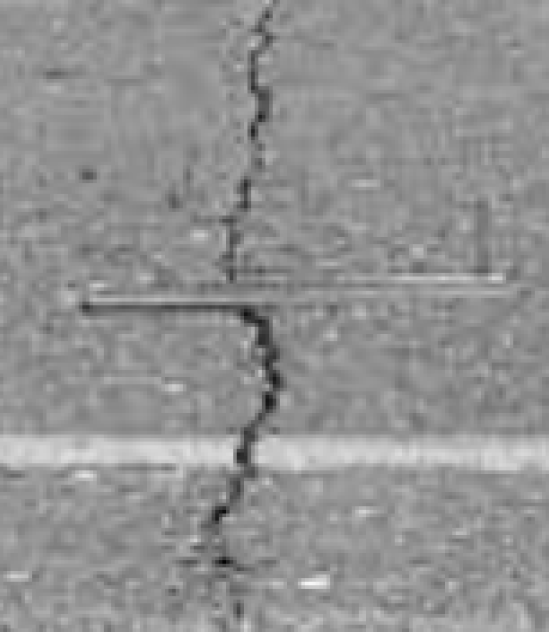Retak Memanjang: (185, 4, 312, 632)
